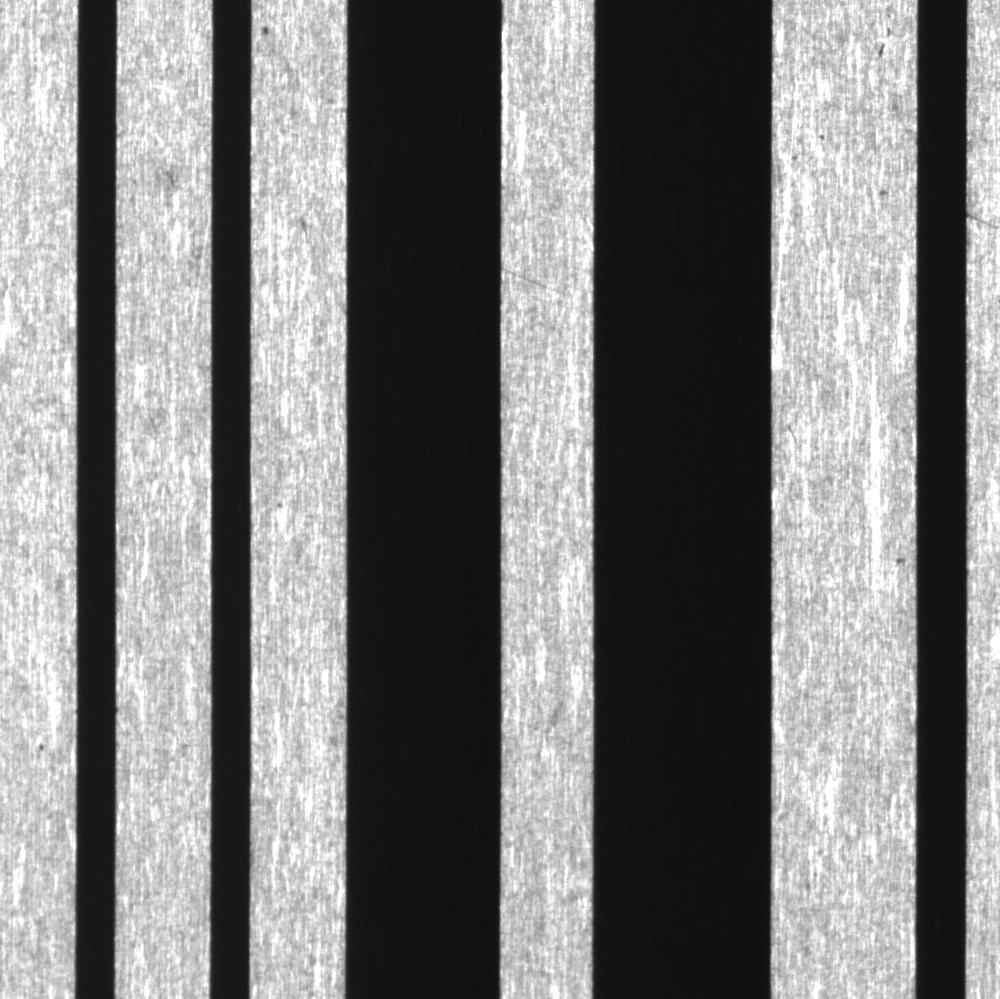Discolor: (143, 153, 201, 212)
Etching: (865, 22, 905, 67), (884, 544, 914, 576), (874, 179, 900, 208), (813, 127, 834, 149), (787, 146, 806, 167)
Pinhole: (255, 14, 291, 46), (25, 729, 59, 762)
Scar: (501, 257, 585, 305), (967, 193, 999, 240)
